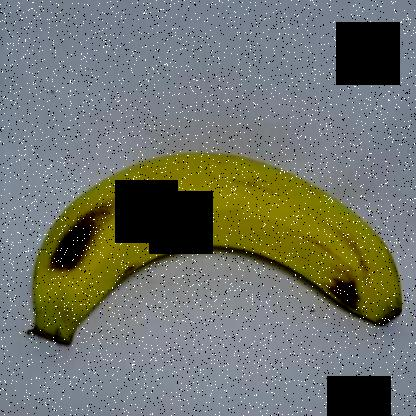freshripe: (20, 142, 410, 354)
